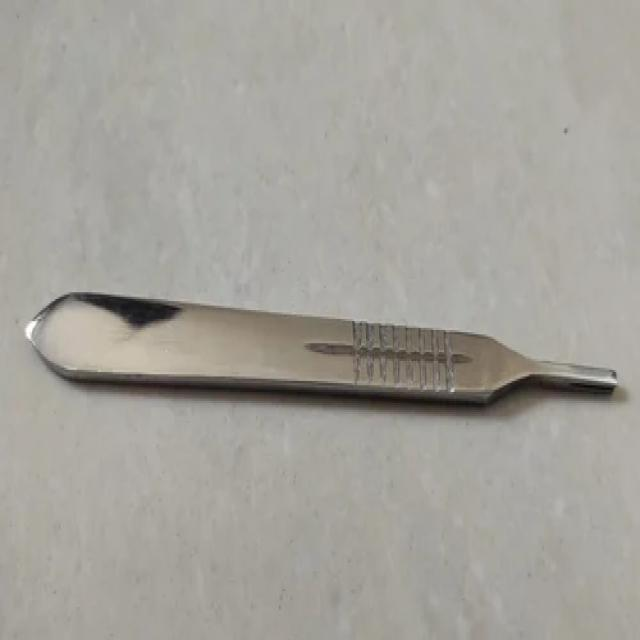Knife handle: (22, 268, 622, 428)
